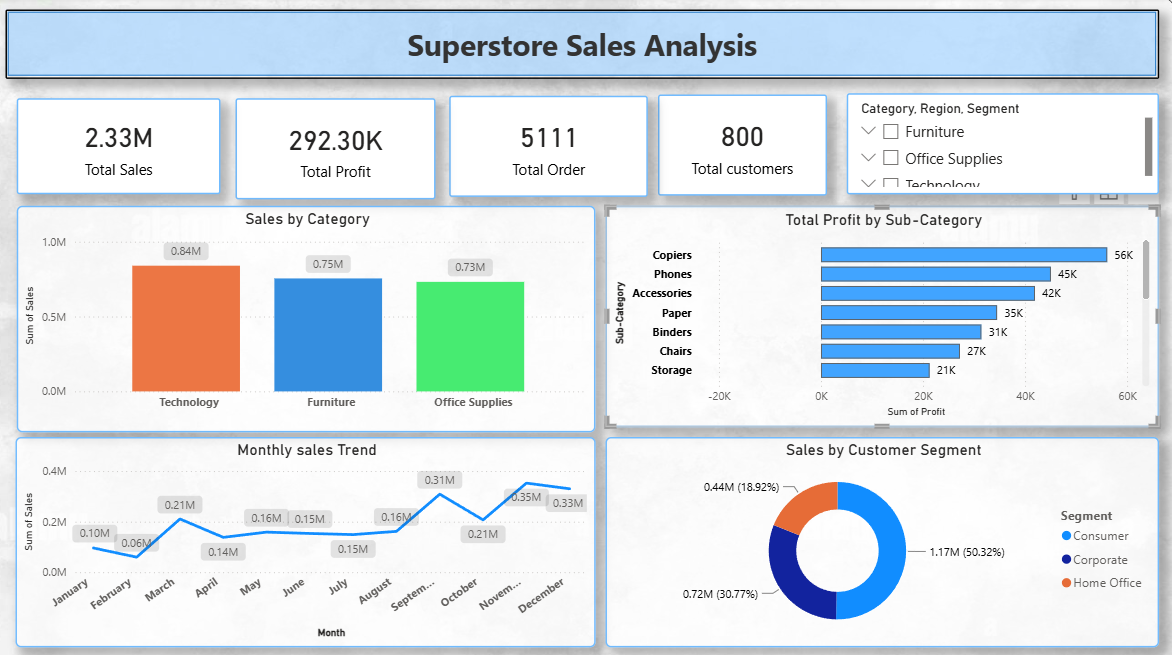

The dashboard page shown, as its layout file describes it:
{"tool":"powerbi","page":{"name":"Page 1","canvas":[1280,720],"ordinal":0},"visuals":[{"type":"image","box":[0,1.4,1280.3,718.5],"z":0},{"type":"shape","box":[13.9,13.9,1250.7,75.3],"z":1000},{"type":"card","fields":{"Values":["sample_-_superstore.Total customers"]},"box":[720.7,105.7,182.9,109.7],"z":2000},{"type":"card","fields":{"Values":["sample_-_superstore.Total Order"]},"box":[494.5,107,215.4,109.7],"z":3000},{"type":"card","fields":{"Values":["sample_-_superstore.Total Profit"]},"box":[262.8,109.7,216.8,109.7],"z":4000},{"type":"card","fields":{"Values":["sample_-_superstore.Total Sales"]},"box":[25.7,109.7,220.8,104.3],"z":5000},{"type":"clusteredColumnChart","title":"Sales by Category","fields":{"Category":["sample_-_superstore.Category"],"Y":["Sum(sample_-_superstore.Sales)"]},"box":[25.7,226.2,627.3,245.2],"z":6000},{"type":"clusteredBarChart","title":"Total Profit by Sub-Category","fields":{"Category":["sample_-_superstore.Sub-Category"],"Y":["Sum(sample_-_superstore.Profit)"]},"box":[663.8,226.2,600.2,239.8],"z":7000},{"type":"lineChart","title":" Monthly sales Trend","fields":{"Category":["sample_-_superstore.order_date.Variation.Date Hierarchy.Month"],"Y":["Sum(sample_-_superstore.Sales)"]},"box":[24.4,476.9,628.6,227.6],"z":8000},{"type":"donutChart","title":" Sales by Customer Segment","fields":{"Category":["sample_-_superstore.Segment"],"Y":["Sum(sample_-_superstore.Sales)"]},"box":[663.8,476.9,600.2,227.6],"z":9000},{"type":"slicer","fields":{"Values":["sample_-_superstore.Category","sample_-_superstore.Region","sample_-_superstore.Segment"]},"box":[925.3,104.3,338.7,109.7],"z":10000}]}

Visuals, with their boxes in screenshot pixels (x1, y1, x2, y2), scaled from the page's 1280x720 canvas onto the 1172x655 screenshot:
image: detection(0, 1, 1171, 654)
shape: detection(13, 13, 1158, 81)
card - sample_-_superstore.Total customers: detection(660, 96, 827, 196)
card - sample_-_superstore.Total Order: detection(453, 97, 650, 197)
card - sample_-_superstore.Total Profit: detection(241, 100, 439, 200)
card - sample_-_superstore.Total Sales: detection(24, 100, 226, 195)
"Sales by Category" clusteredColumnChart: detection(24, 206, 598, 429)
"Total Profit by Sub-Category" clusteredBarChart: detection(608, 206, 1157, 424)
" Monthly sales Trend" lineChart: detection(22, 434, 598, 641)
" Sales by Customer Segment" donutChart: detection(608, 434, 1157, 641)
slicer - sample_-_superstore.Category x sample_-_superstore.Region: detection(847, 95, 1157, 195)
